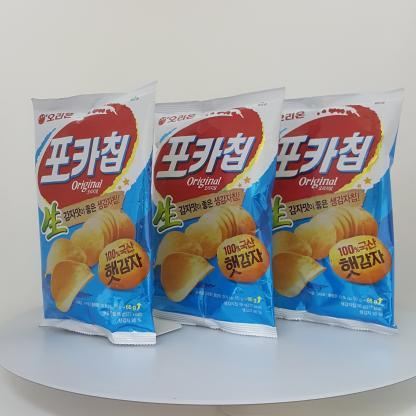Plastic Packaging: (22, 68, 160, 344), (163, 82, 281, 344), (288, 80, 404, 330)
